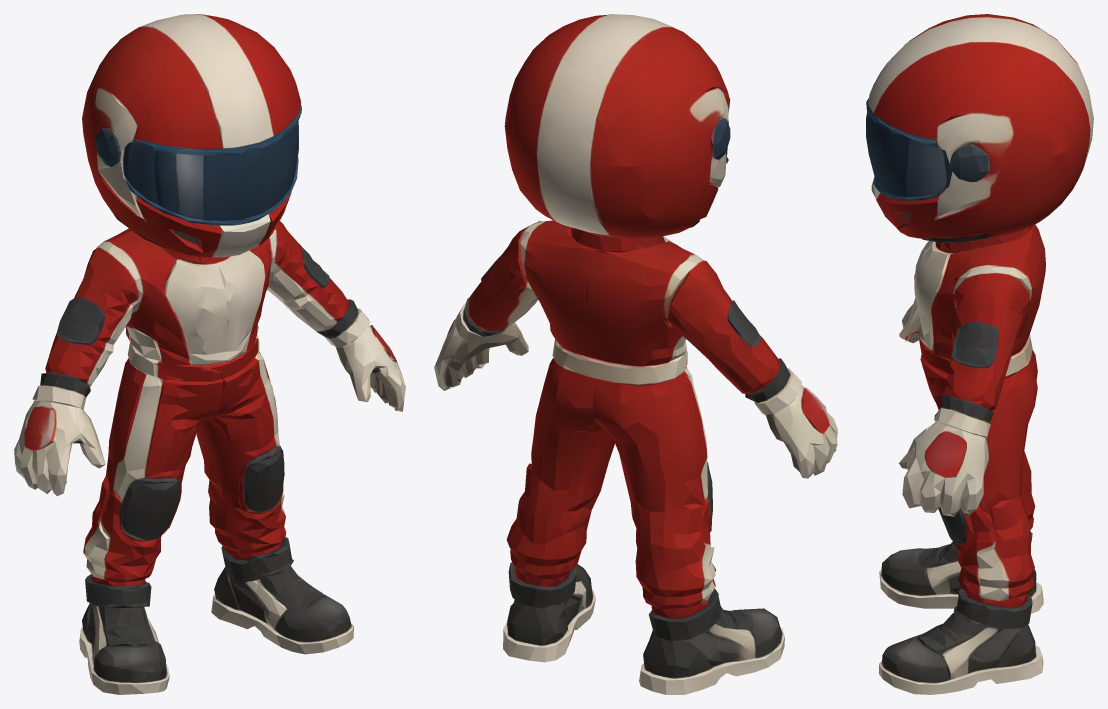
File: crimson-driver-candidate.glb
The picture shows the model from 3 angles, left to right: view 1: azimuth 30°, elevation 25°; view 2: azimuth 150°, elevation 25°; view 3: azimuth 270°, elevation 25°; orthographic projection. The views are drawn at different scales.
Visible parts, largest first — view 1: crimson_driver_candidate; view 2: crimson_driver_candidate; view 3: crimson_driver_candidate.
Part boxes in pixels (<box>): crimson_driver_candidate: <box>14,14,405,694</box>; crimson_driver_candidate: <box>434,14,837,694</box>; crimson_driver_candidate: <box>866,14,1093,694</box>.
Size of the model in its own units: 1.43 by 2.25 by 0.757.
1 material, 1 textured.
